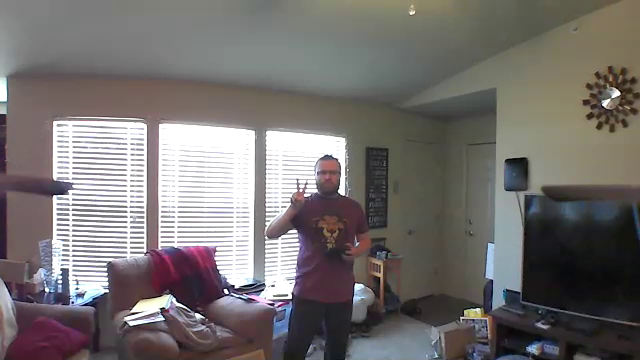peace: (286, 175, 312, 211)
